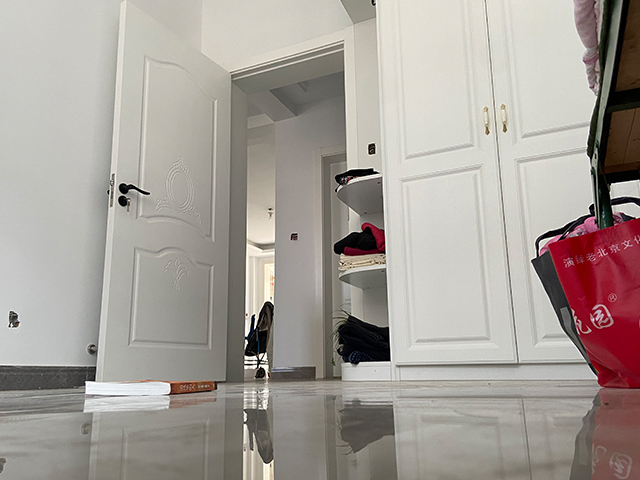book: (83, 379, 218, 398)
cabinet: (336, 93, 616, 383)
